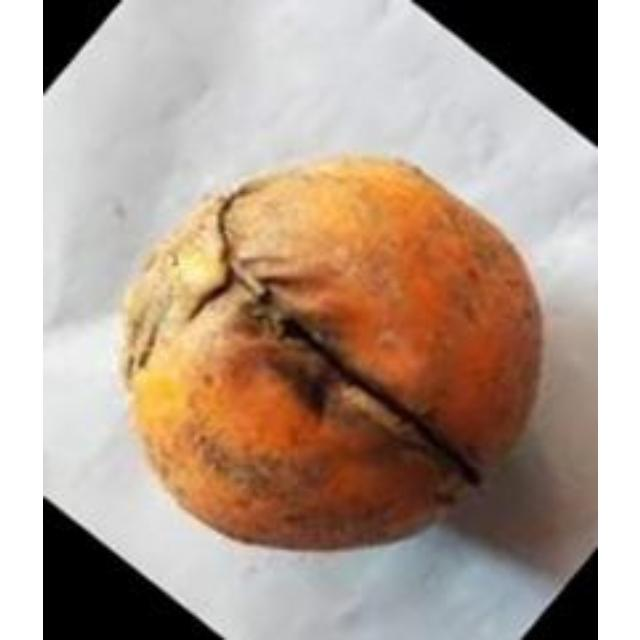damaged: (114, 154, 544, 552)
